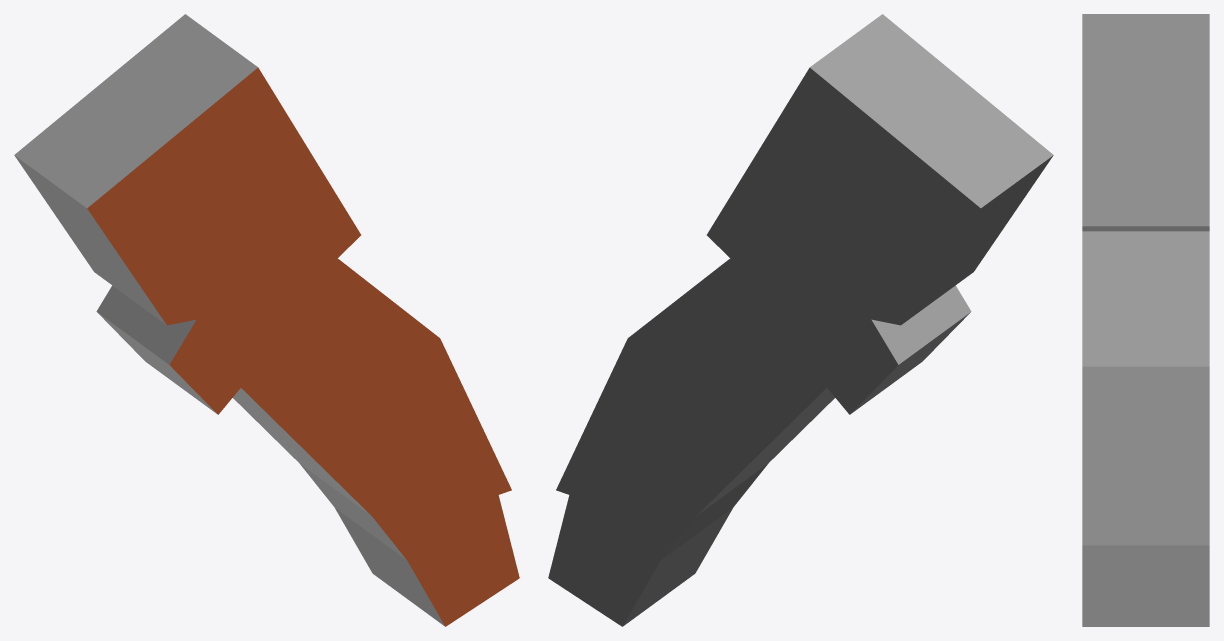
Rendered from construction_1671_assumed_A_Casa_h6m.obj.
3 views of the same model, side by side, from view 1: azimuth 30°, elevation 25°; view 2: azimuth 150°, elevation 25°; view 3: azimuth 270°, elevation 25° (orthographic). The views are drawn at different scales.
Visible parts, largest first — view 1: construction_1671_assumed_A_Casa; view 2: construction_1671_assumed_A_Casa; view 3: construction_1671_assumed_A_Casa.
Boxes of the visible parts, x1,y1,x2,y2 form: construction_1671_assumed_A_Casa: (14,14,519,626); construction_1671_assumed_A_Casa: (548,14,1053,626); construction_1671_assumed_A_Casa: (1082,14,1209,626).
Size of the model in its own units: 20.55 by 27.47 by 6.
